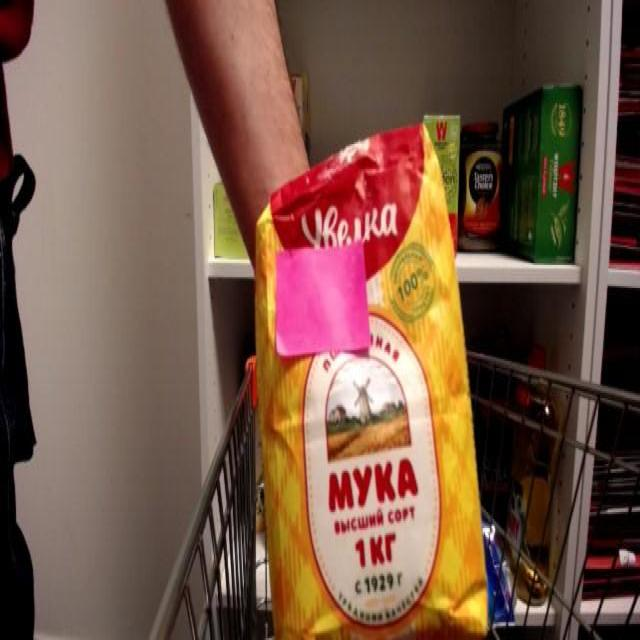Almond Milk: (249, 106, 496, 640)
